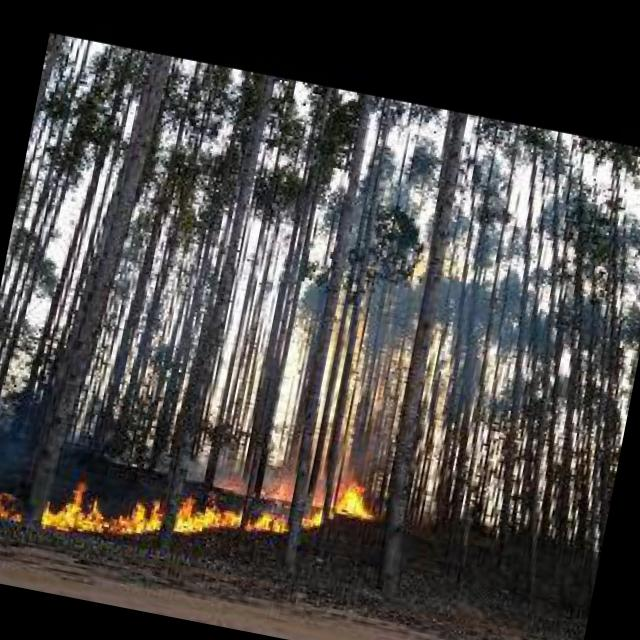fire: (0, 403, 384, 595)
